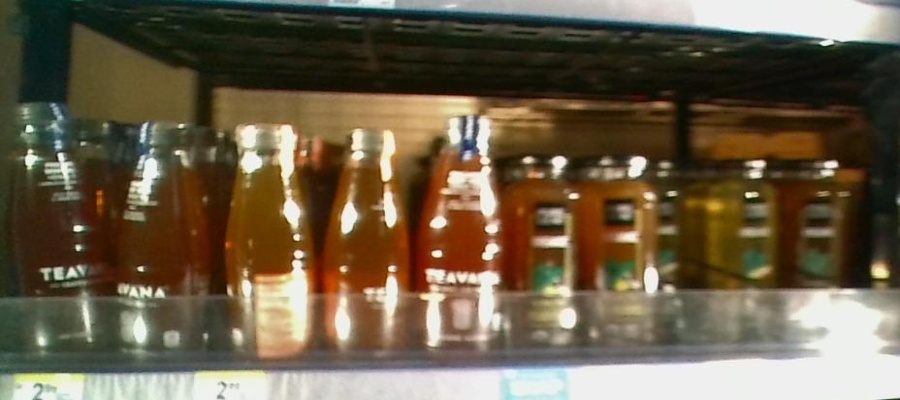bottle: (112, 116, 214, 371), (10, 99, 105, 363), (220, 119, 318, 368), (322, 117, 414, 365), (419, 109, 506, 358), (584, 156, 666, 363), (510, 154, 581, 368), (706, 155, 779, 358), (783, 149, 852, 358)
